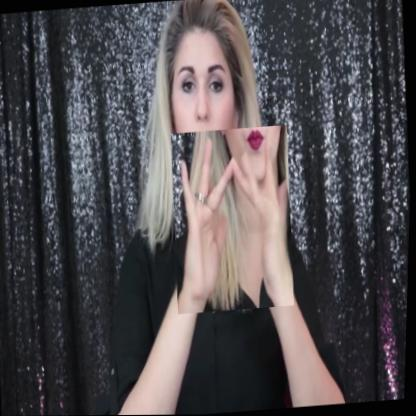Internet: (167, 125, 301, 315)
